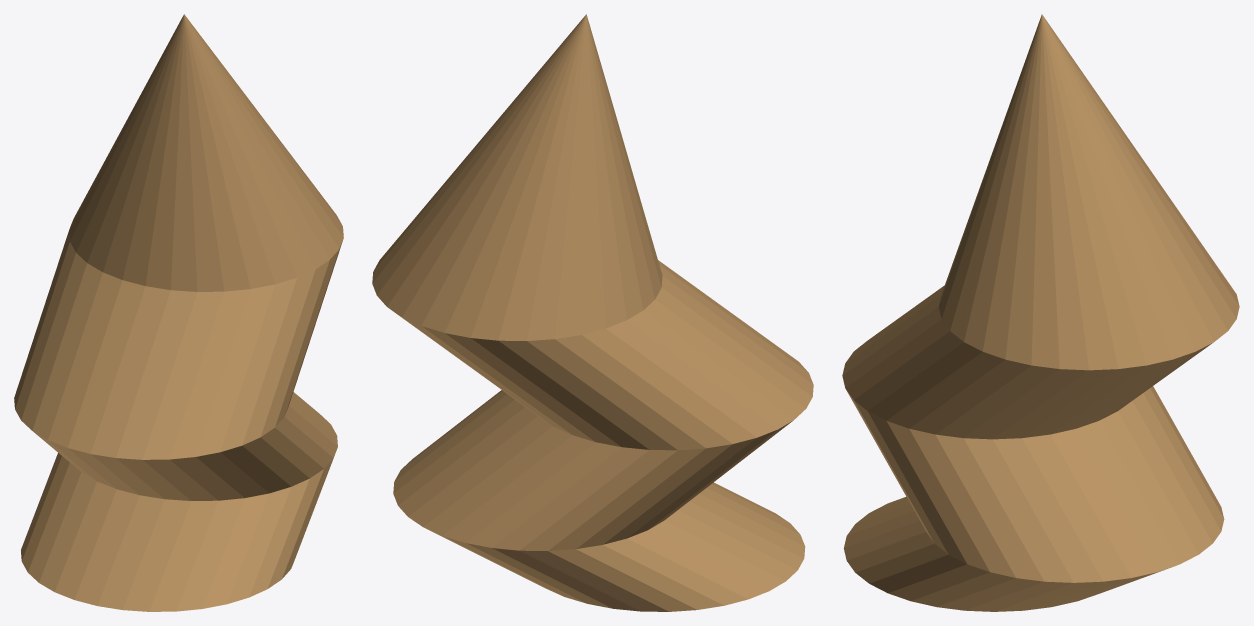
Rendered from BitsyBranch.fbx.
3 views of the same model, side by side, from view 1: azimuth 30°, elevation 25°; view 2: azimuth 150°, elevation 25°; view 3: azimuth 270°, elevation 25° (orthographic). The views are drawn at different scales.
Parts seen in each view (by area): view 1: Cone; view 2: Cone; view 3: Cone.
Part boxes in pixels (box(x1,y1,x2,y2)): Cone: box(14, 14, 343, 611); Cone: box(372, 14, 813, 611); Cone: box(842, 14, 1239, 611).
Size of the model in its own units: 141 by 204 by 131.
